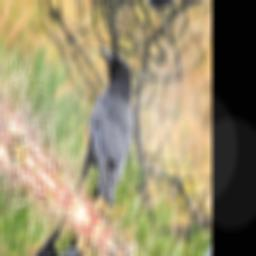Crow: (45, 37, 164, 224)
